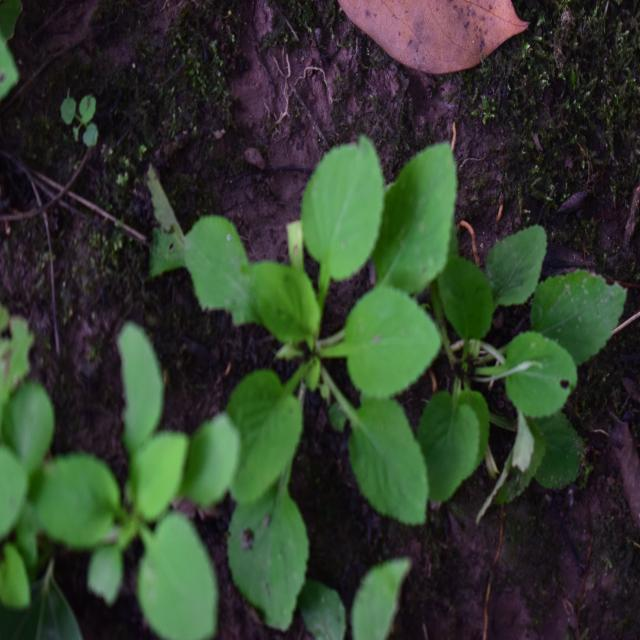Viola: (214, 162, 489, 521), (432, 238, 612, 488)
